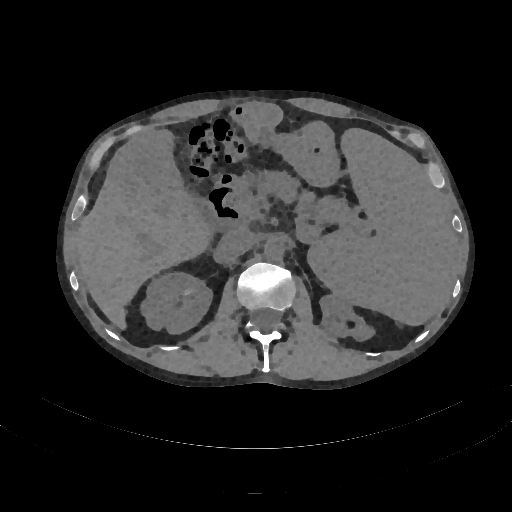Lesion: (177, 287, 199, 297)
